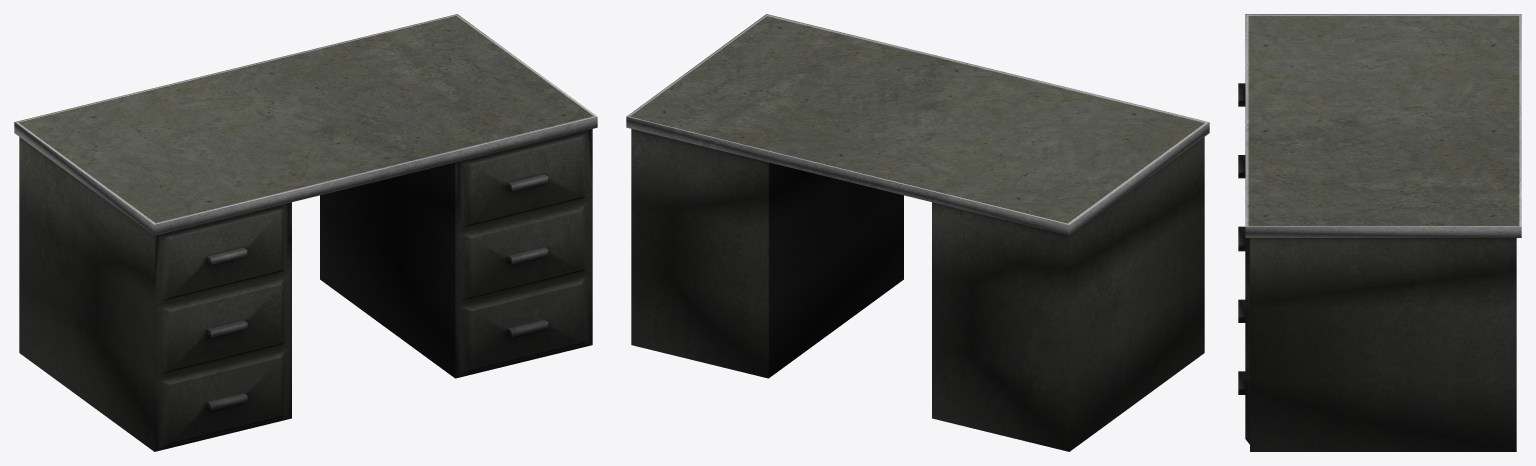
The model's file is LabDesk.fbx.
The picture shows the model from 3 angles, left to right: view 1: azimuth 30°, elevation 25°; view 2: azimuth 150°, elevation 25°; view 3: azimuth 270°, elevation 25°; orthographic projection.
Visible parts, largest first — view 1: Cube; view 2: Cube; view 3: Cube.
Boxes of the visible parts, bbox=[...] form: Cube: bbox=[14, 14, 597, 451]; Cube: bbox=[626, 14, 1209, 451]; Cube: bbox=[1238, 14, 1521, 451].
Bounding box in the file's own units: 3.95 × 1.95 × 2.22.
